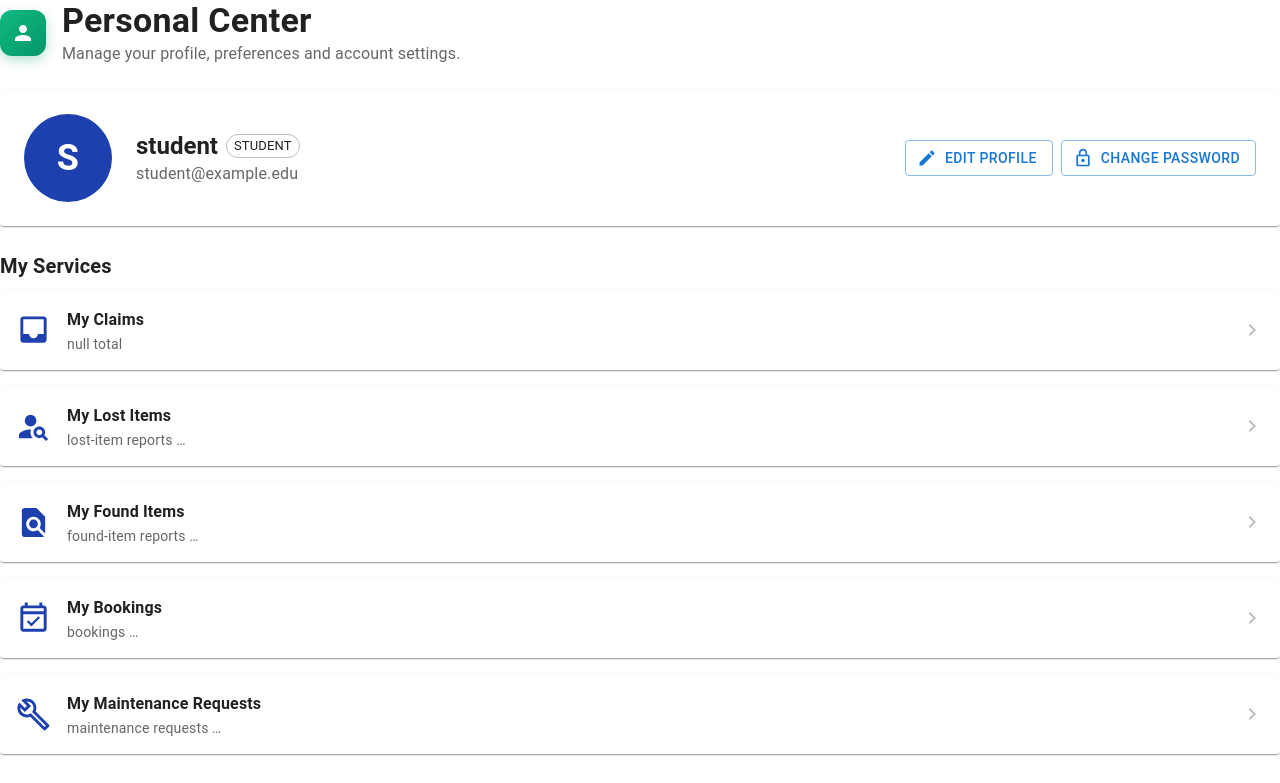
Scenario: ProfilePage › lets the user edit their nickname and syncs the profile
Step 1. Click the button "Edit profile" → (979, 158), box [905, 140, 1053, 176]
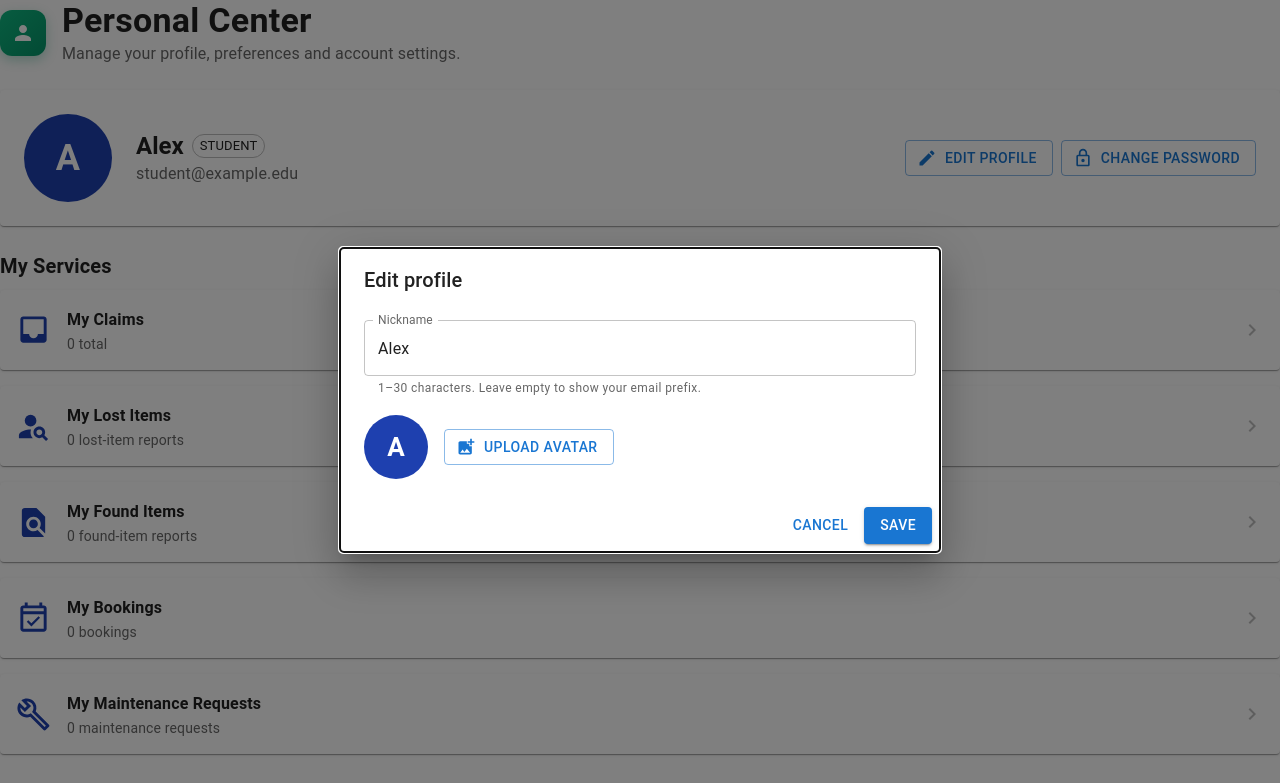
Step 2. Replace the text in the field labelled "Nickname" with "Bob" → (640, 348), box [364, 320, 916, 376]
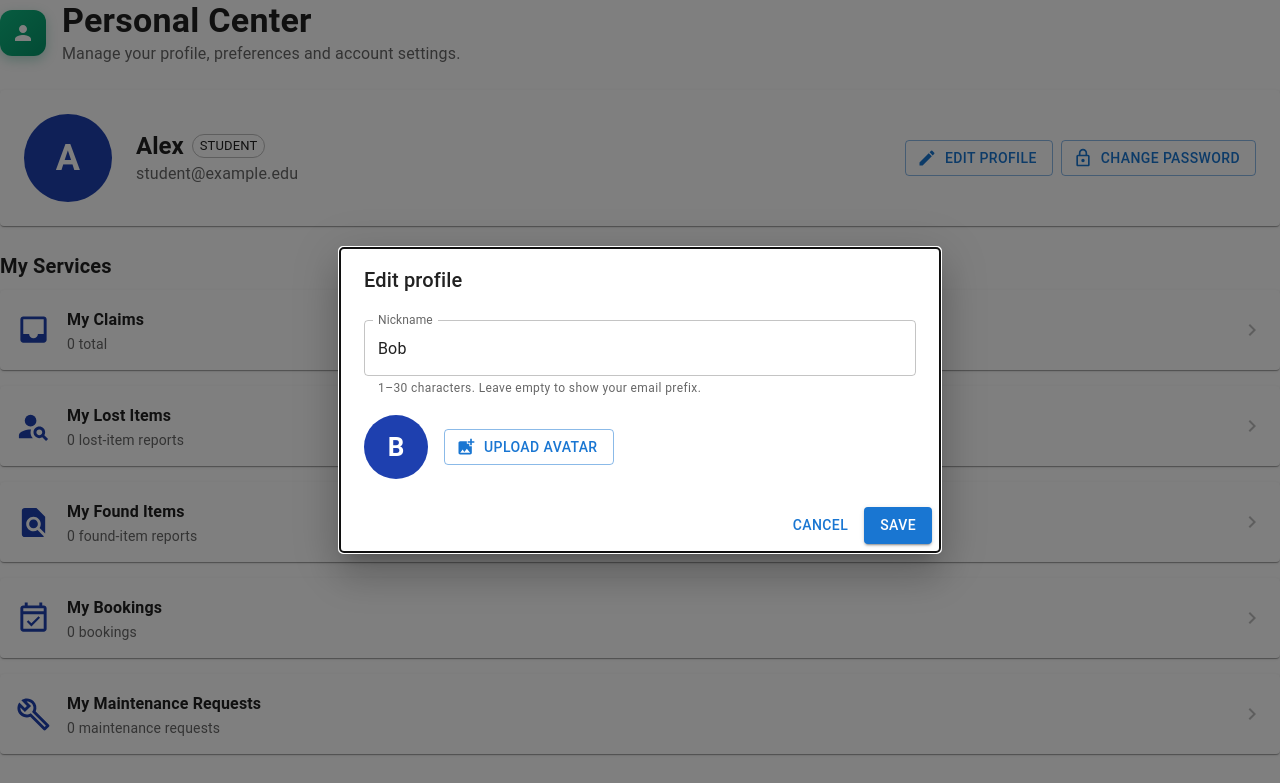
Step 3. Click the button "Save" → (898, 525), box [864, 507, 932, 544]
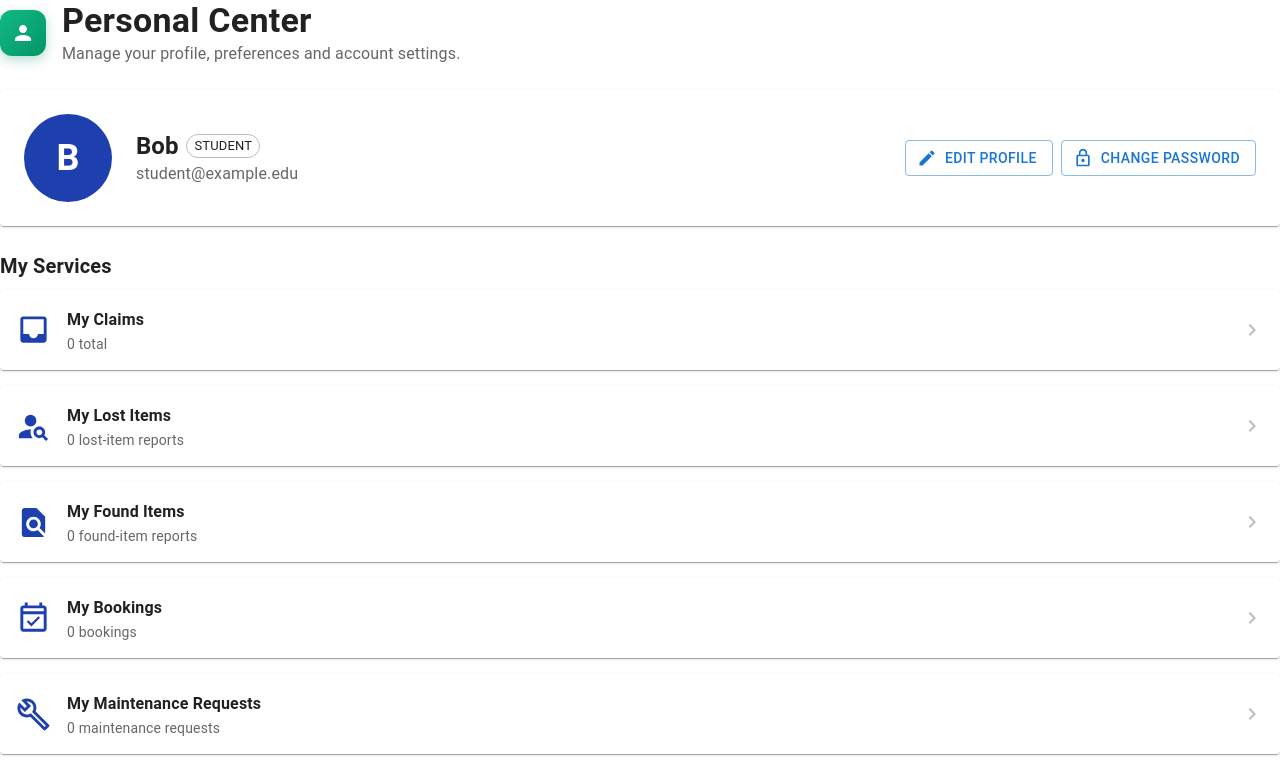
Now the heading "Bob" is shown, box [136, 130, 178, 162]
